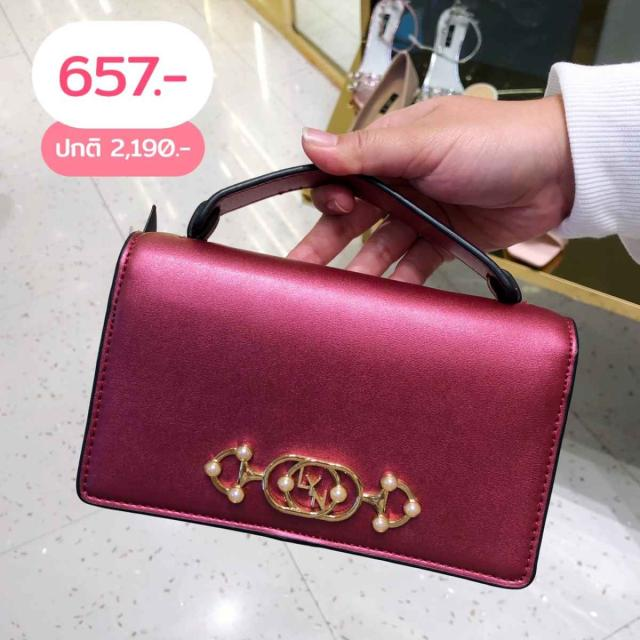handbag: (73, 192, 579, 590)
